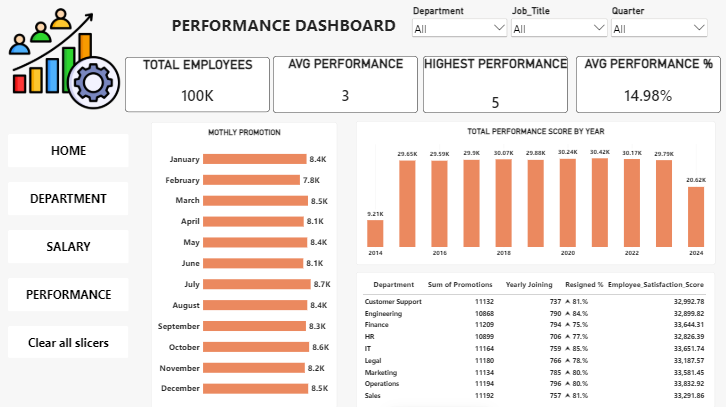

Layout of this report page (visuals, bound fields, positions):
{"tool":"powerbi","page":{"name":"PERFORMANCE","canvas":[1920,1080],"ordinal":4},"visuals":[{"type":"image","box":[10,10,318.1,299.5],"z":0},{"type":"actionButton","box":[20,359,318.1,88.2],"z":1000},{"type":"actionButton","box":[20,483.8,317.2,87.9],"z":2000},{"type":"actionButton","box":[20,609.7,318.1,88.2],"z":3000},{"type":"actionButton","box":[20,737.2,318.1,88.2],"z":4000},{"type":"actionButton","box":[20,863.1,317.2,84.5],"z":5000},{"type":"textbox","box":[364.3,42.9,766.7,88.1],"z":6000},{"type":"card","title":"AVG PERFORMANCE ","fields":{"Values":["KPI.AVG PERFORMANCE SCORE"]},"box":[719,152.4,381,150],"z":7000},{"type":"card","title":"HIGHEST  PERFORMANCE ","fields":{"Values":["KPI.HIGHEST PERFORMANCE SCORE"]},"box":[1114.3,152.4,381,150],"z":8000},{"type":"card","title":"AVG PERFORMANCE %","fields":{"Values":["KPI.Average Performance Score%"]},"box":[1516.7,152.4,381,150],"z":9000},{"type":"card","title":"TOTAL EMPLOYEES","fields":{"Values":["KPI.Total Employee"]},"box":[328.6,154.8,381,145.2],"z":10000},{"type":"clusteredBarChart","title":"MOTHLY PROMOTION","fields":{"Category":["Employee.Hire_Date.Variation.Date Hierarchy.Month"],"Y":["Sum(Promotion.Promotions)"]},"box":[397.5,325,490,755],"z":11001},{"type":"lineStackedColumnComboChart","title":"TOTAL PERFORMANCE SCORE BY YEAR","fields":{"Category":["Employee.Hire_Date.Variation.Date Hierarchy.Year"],"Y":["KPI.TOTAL PERFORMANCE SCORE"]},"box":[937.1,324.3,945.7,378.6],"z":11002},{"type":"tableEx","fields":{"Values":["Employee.Department","Sum(Promotion.Promotions)","KPI.Yearly Joining","KPI.Resigned %","Sum(Promotion.Employee_Satisfaction_Score)"]},"box":[938,720,945,360],"z":11003},{"type":"slicer","fields":{"Values":["Employee.Department"]},"box":[1077.8,19.4,261.4,112.3],"z":11004},{"type":"slicer","fields":{"Values":["Employee.Job_Title"]},"box":[1339.2,19.4,263.5,112.3],"z":11005},{"type":"slicer","fields":{"Values":["Employee.Hire_Date.Variation.Date Hierarchy.Quarter"]},"box":[1602.7,19.4,263.5,101.5],"z":11006}]}

Visuals, with their boxes in screenshot pixels (x1, y1, x2, y2), scaled from the page's 1920x1080 canvas onto the 726x407 screenshot:
image: 4, 4, 124, 117
actionButton: 8, 135, 128, 169
actionButton: 8, 182, 128, 215
actionButton: 8, 230, 128, 263
actionButton: 8, 278, 128, 311
actionButton: 8, 325, 128, 357
textbox: 138, 16, 428, 49
"AVG PERFORMANCE " card: 272, 57, 416, 114
"HIGHEST  PERFORMANCE " card: 421, 57, 565, 114
"AVG PERFORMANCE %" card: 574, 57, 718, 114
"TOTAL EMPLOYEES" card: 124, 58, 268, 113
"MOTHLY PROMOTION" clusteredBarChart: 150, 122, 336, 406
"TOTAL PERFORMANCE SCORE BY YEAR" lineStackedColumnComboChart: 354, 122, 712, 265
tableEx - Employee.Department x Sum(Promotion.Promotions): 355, 271, 712, 406
slicer - Employee.Department: 408, 7, 506, 50
slicer - Employee.Job_Title: 506, 7, 606, 50
slicer - Employee.Hire_Date.Variation.Date Hierarchy.Quarter: 606, 7, 706, 46
